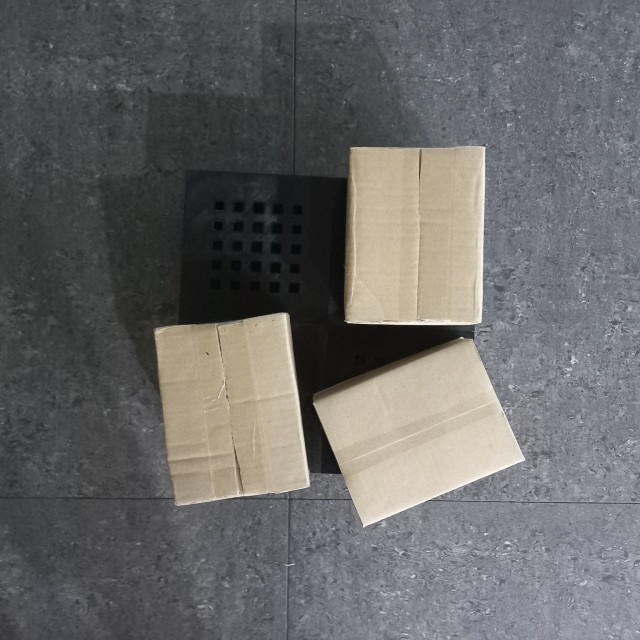box: (310, 334, 526, 530), (150, 309, 314, 510), (341, 140, 488, 331)
